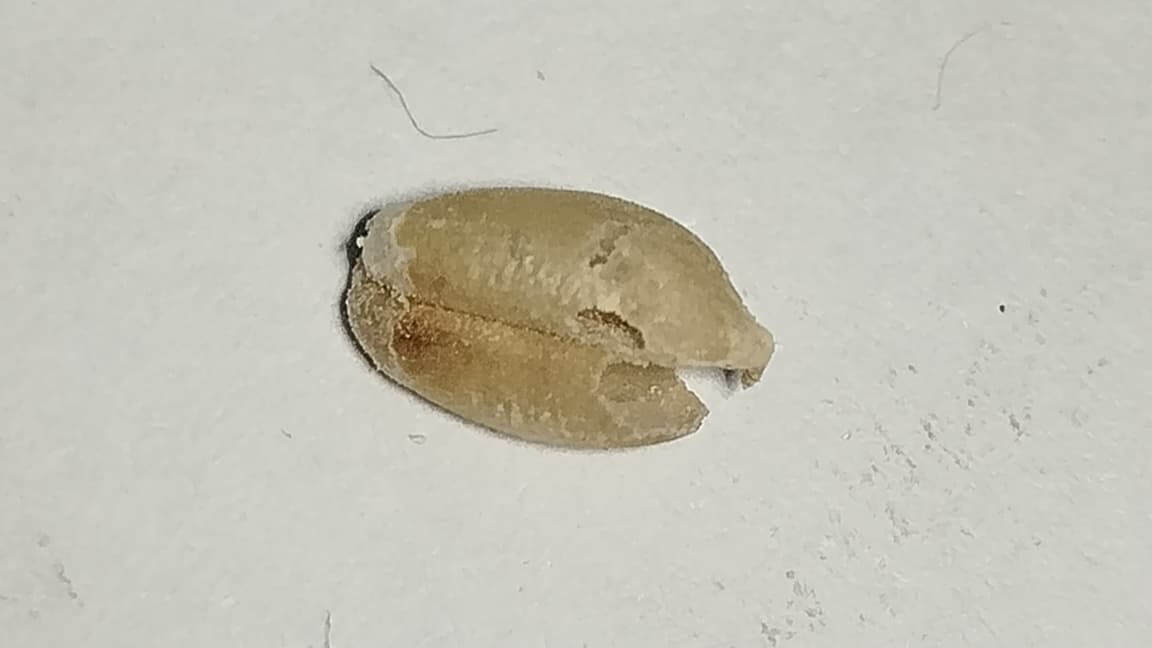damage: (345, 189, 773, 447)
staindamage: (561, 207, 772, 441)
